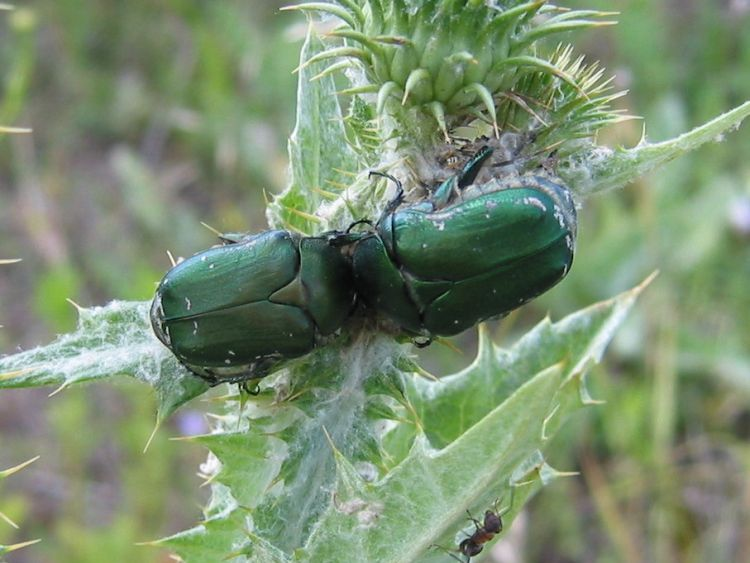Protaetia_ungarica: (363, 142, 584, 347), (148, 204, 364, 399)
